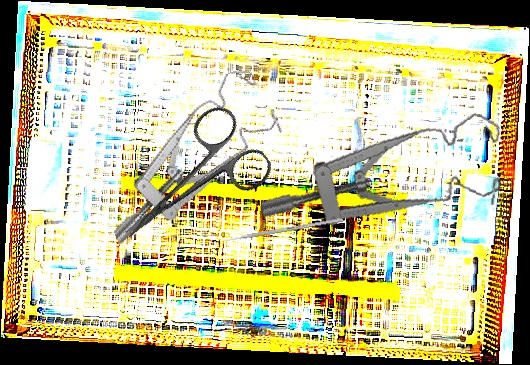Iris Scissors: (97, 98, 278, 269)
Pusher: (212, 217, 344, 245)
Speculum: (258, 82, 512, 253), (74, 62, 299, 245)
